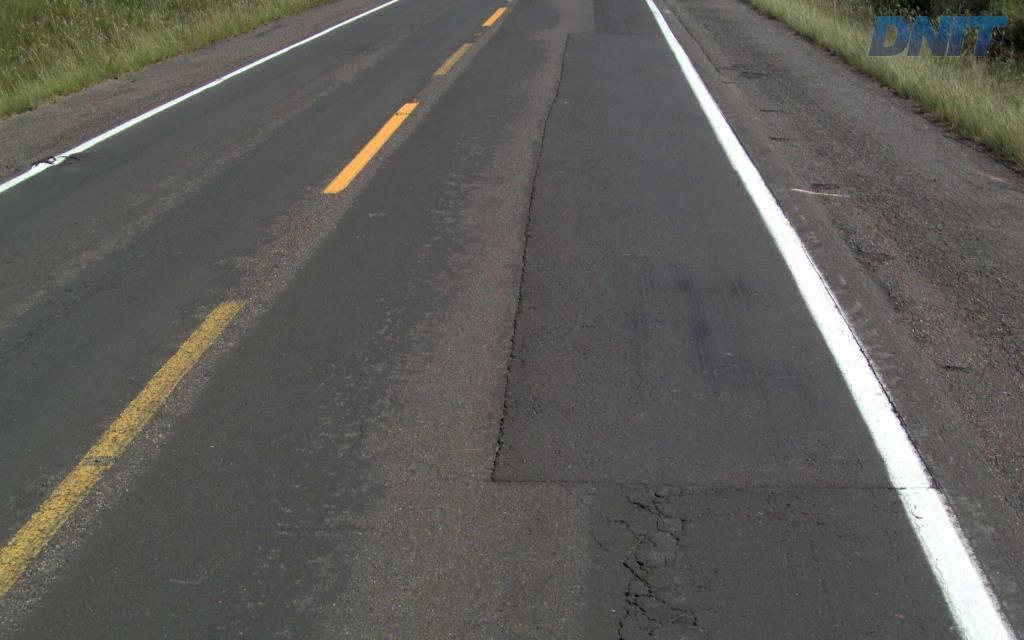crack: (625, 486, 684, 548), (621, 553, 666, 628)
